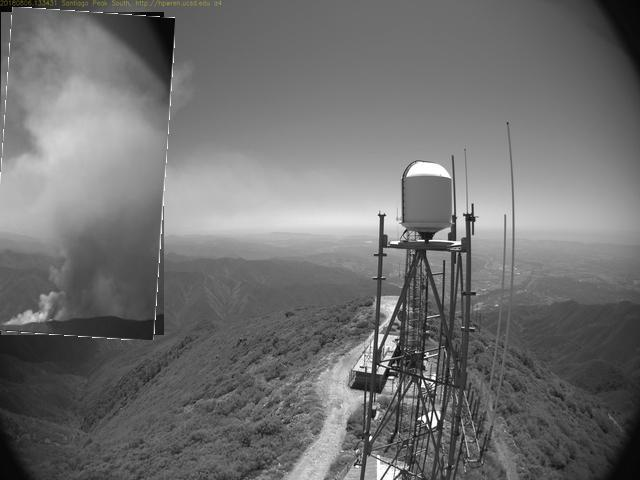smoke: (1, 10, 172, 340)
